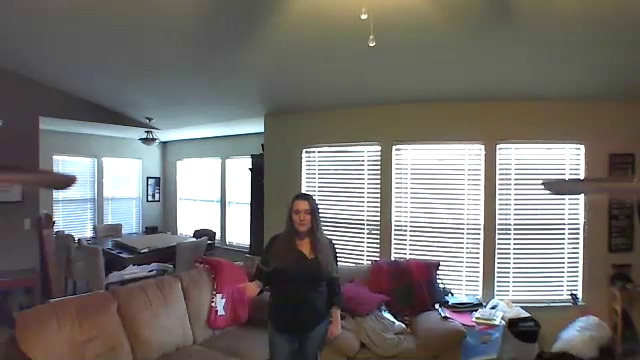land: (236, 276, 263, 299)
